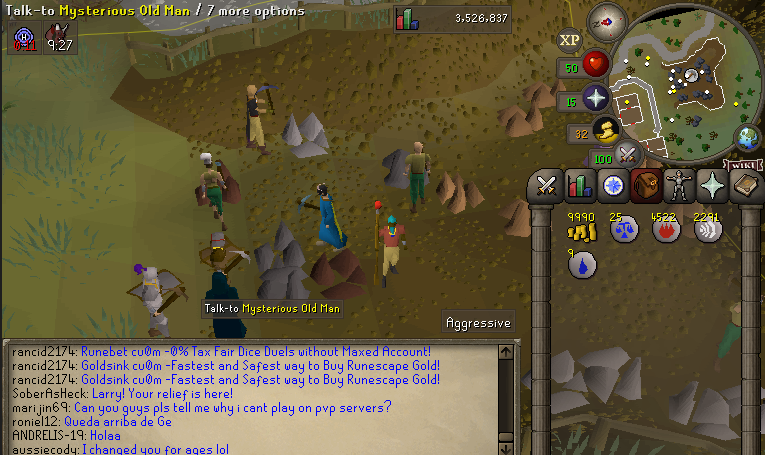depleted: (368, 139, 440, 194), (248, 259, 314, 315), (251, 220, 313, 275)
iron: (308, 246, 376, 301)
